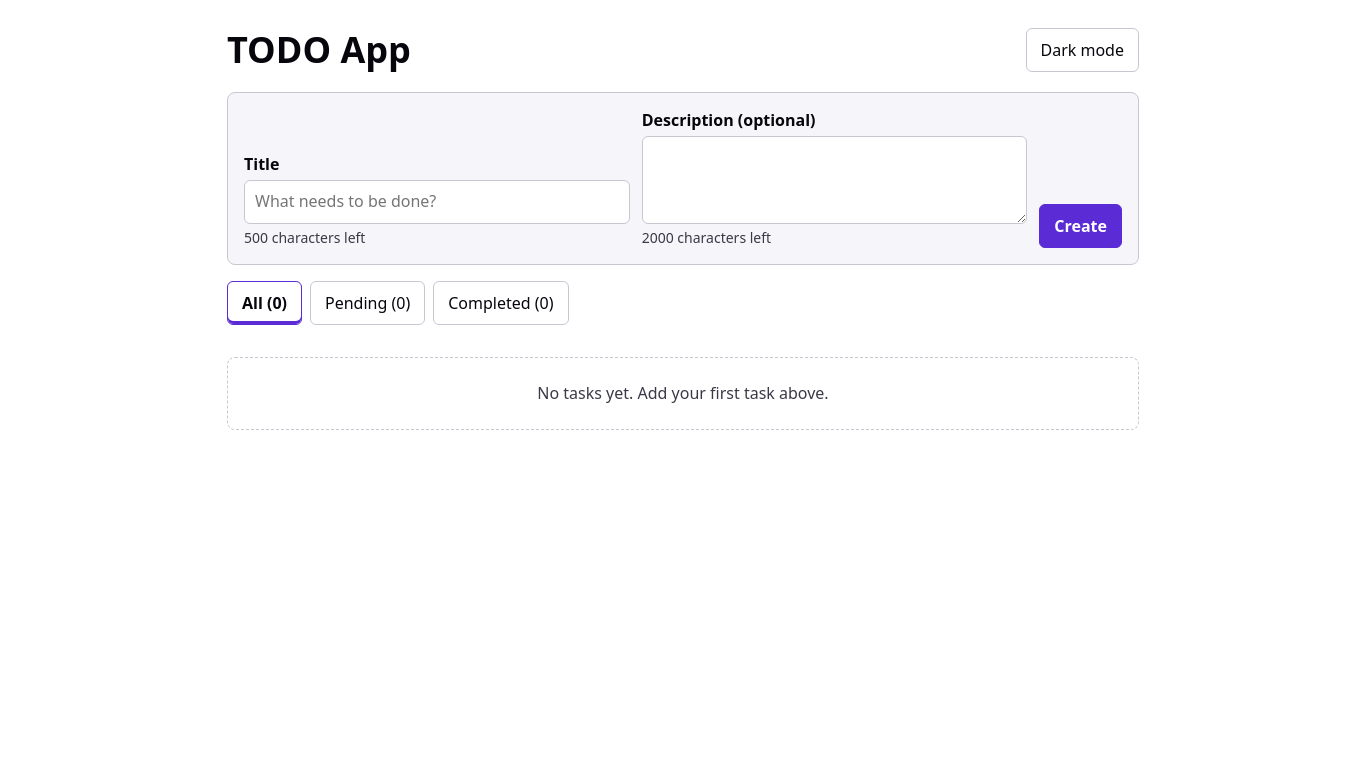
Scenario: localStorage integration › quota exceeded: shows an error toast and disables saving
Note: The write happens on the change itself, so the quota failure surfaces on the first create.
Type "Too big to save" into the field with test id "task-title-input" at (437, 202), box [244,180,630,224]
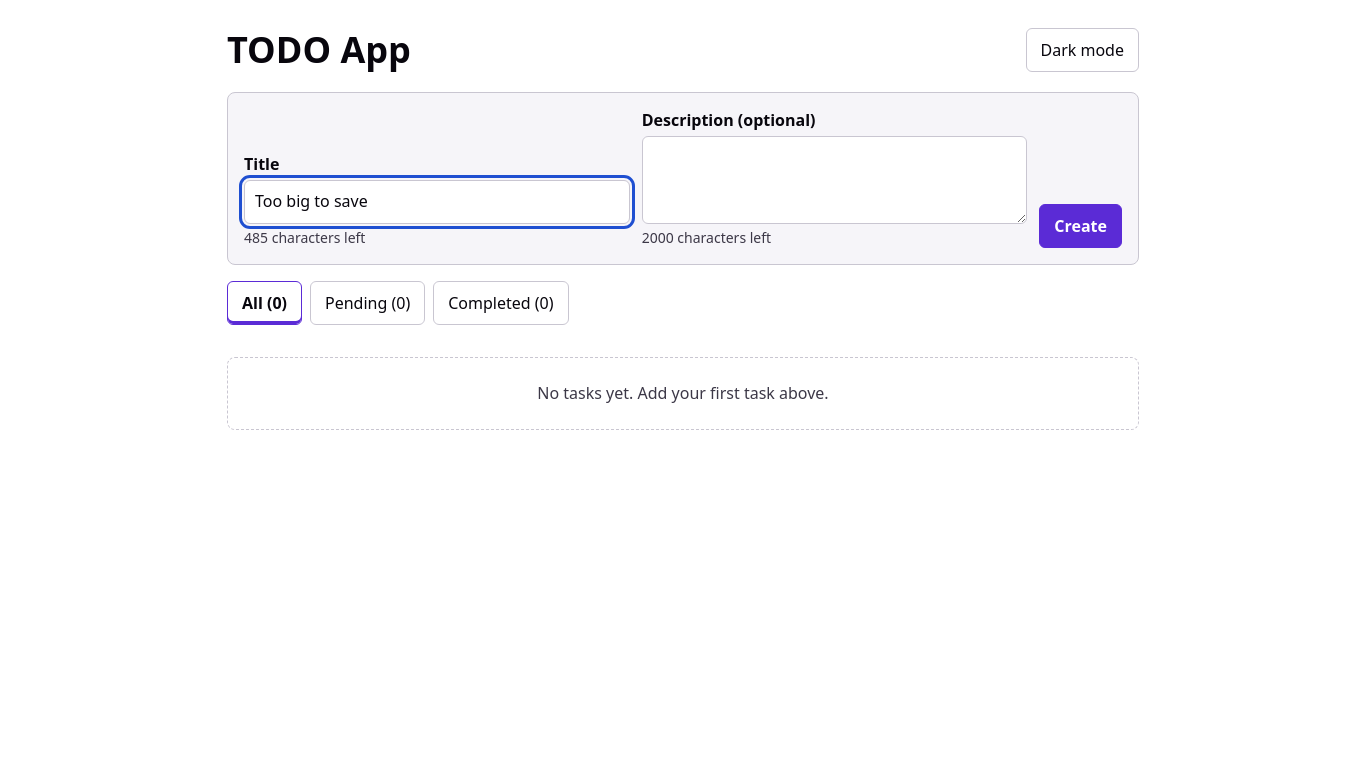
Click the button with test id "create-task-button" at (1081, 226), box [1039,204,1122,248]
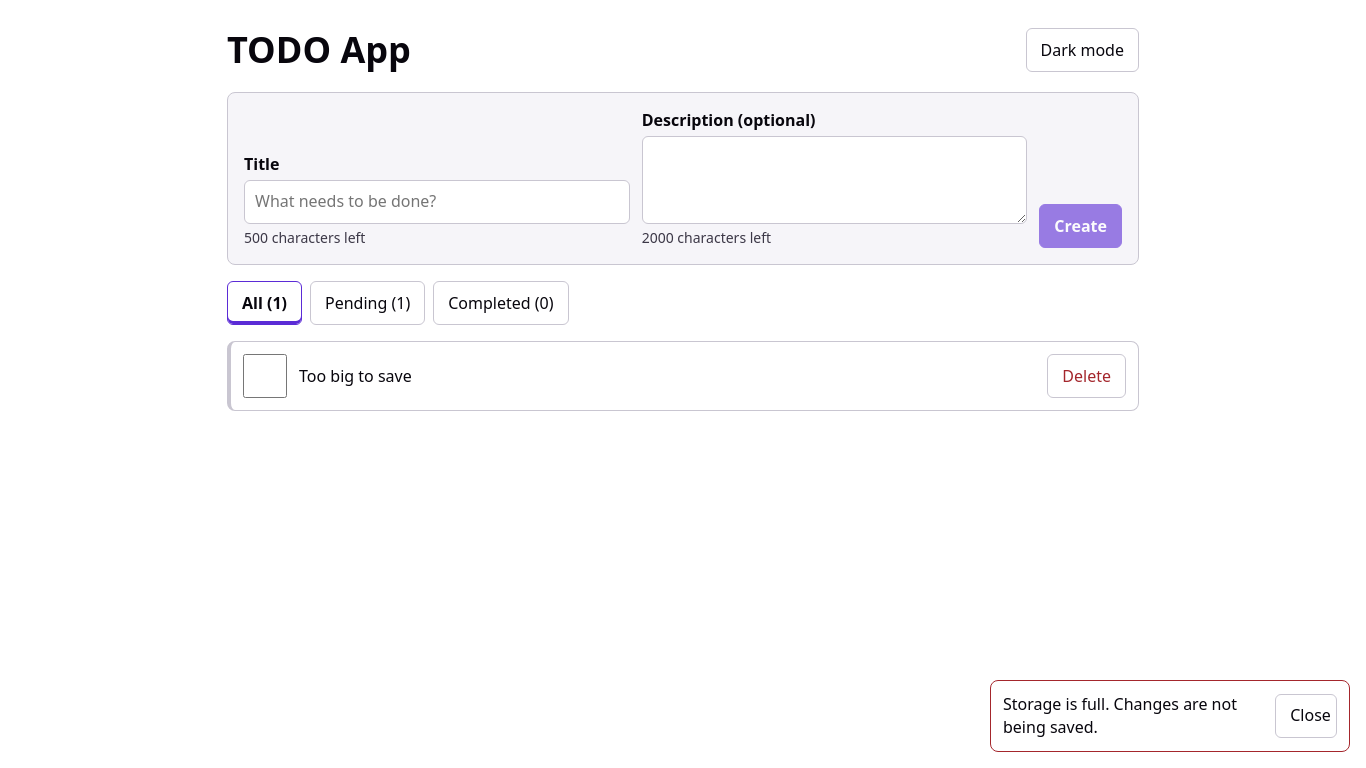
expect the message with test id "toast" shows "Storage is full": met, box [1003,693,1237,738]
expect the button with test id "create-task-button" is disabled: met, box [1039,204,1122,248]
